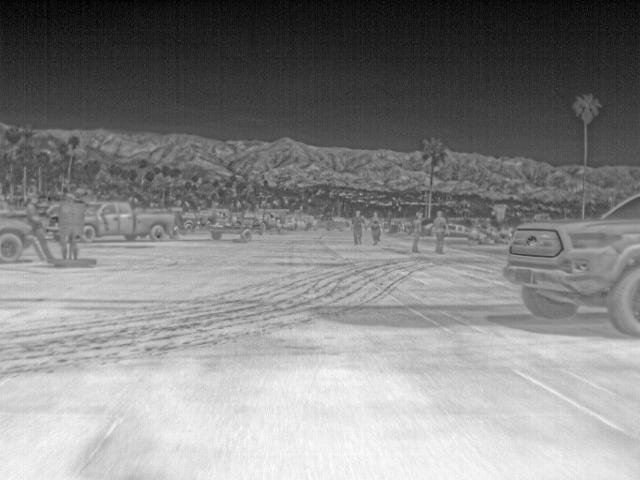car: (504, 193, 639, 336), (83, 199, 175, 242), (0, 214, 36, 264)
person: (57, 191, 85, 257), (428, 208, 447, 255), (409, 212, 425, 253), (351, 206, 366, 247), (367, 208, 383, 245)
